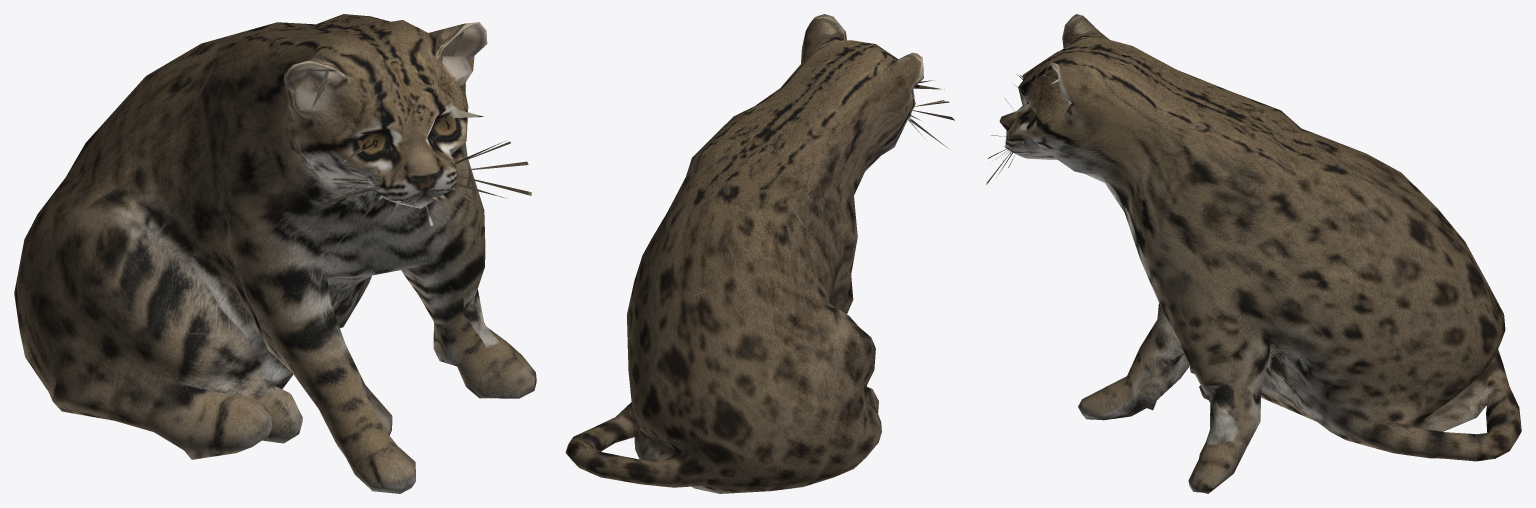
The model's file is gato_maracaja_med.glb.
The picture shows the model from 3 angles, left to right: view 1: azimuth 30°, elevation 25°; view 2: azimuth 150°, elevation 25°; view 3: azimuth 270°, elevation 25°; orthographic projection. The views are drawn at different scales.
Bounding box in the file's own units: 0.6494 × 0.7363 × 0.9614.
1 material, 1 textured.
